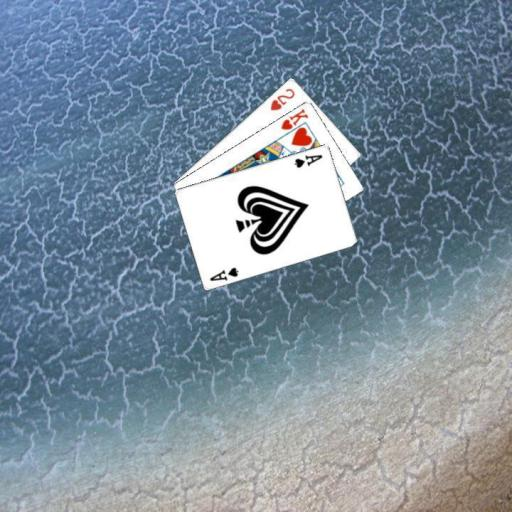card-corner: (278, 105, 310, 131), (268, 84, 296, 112), (207, 264, 240, 282), (292, 151, 324, 169)
